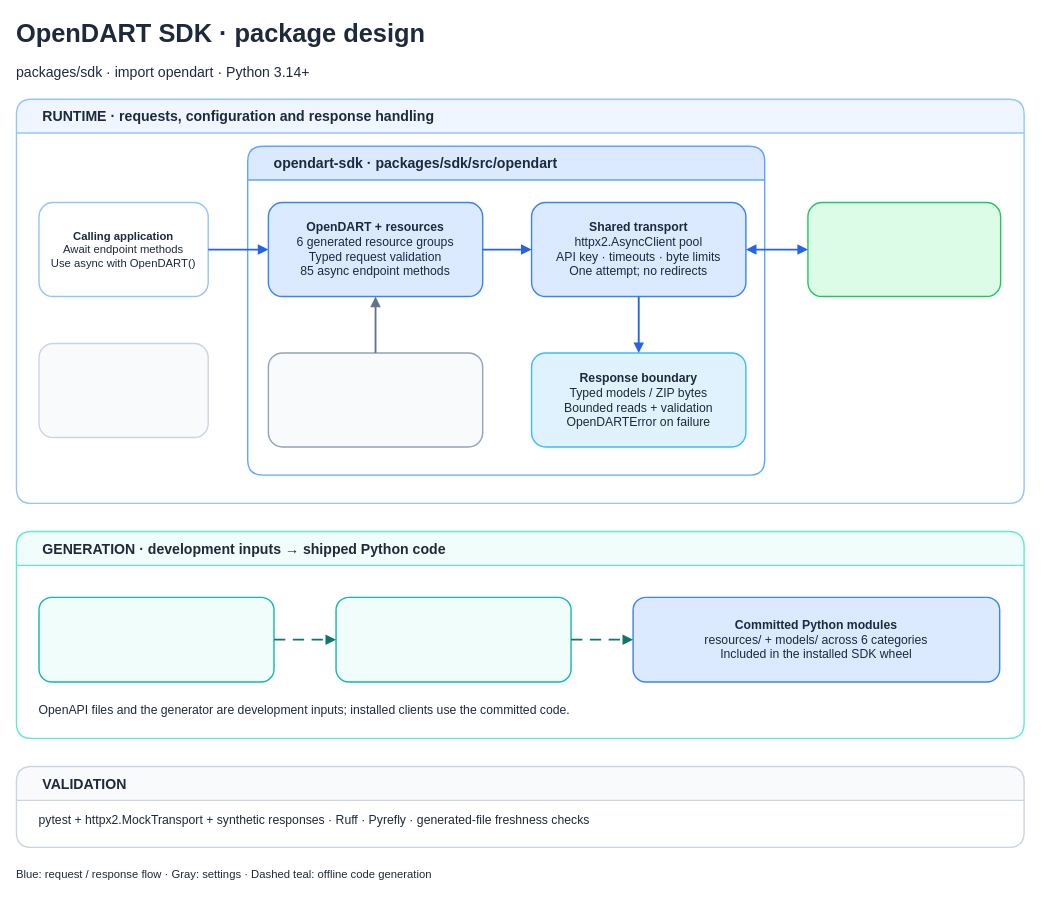
The diagram is 1042 pixels wide and 901 high, and some of its shapes have lost their labels. The shapes that lost their labels are listed below. From the top down, each one's centre as x and y in pixels, then its label:
At point 904,249: "FSS English API HTTPS /engapi 82 JSON services 3 ZIP downloads".
At point 123,390: "Application lifetime Reuse the owned HTTP pool Context exit closes resources".
At point 375,399: "Pydantic settings OPENDART_API__* / explicit Optional dotenv / file secrets".
At point 156,639: "Checked-in API reference api_reference/openapi.yaml paths/ + schemas/".
At point 453,639: "SDK generator scripts/generate_sdk.py Offline; deterministic".
